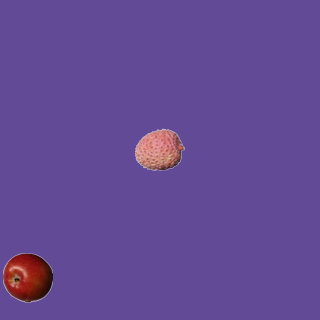Apple Braeburn: (2, 252, 52, 302)
Lychee: (134, 124, 184, 174)
